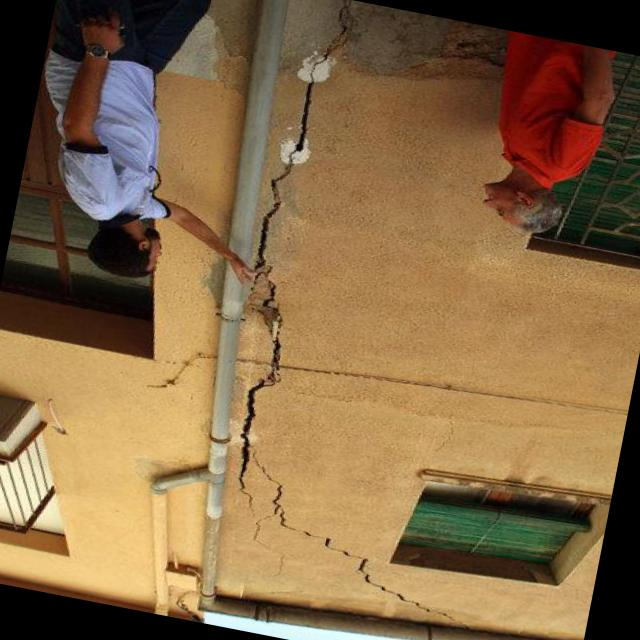crack: (233, 66, 324, 486), (258, 462, 467, 627)
